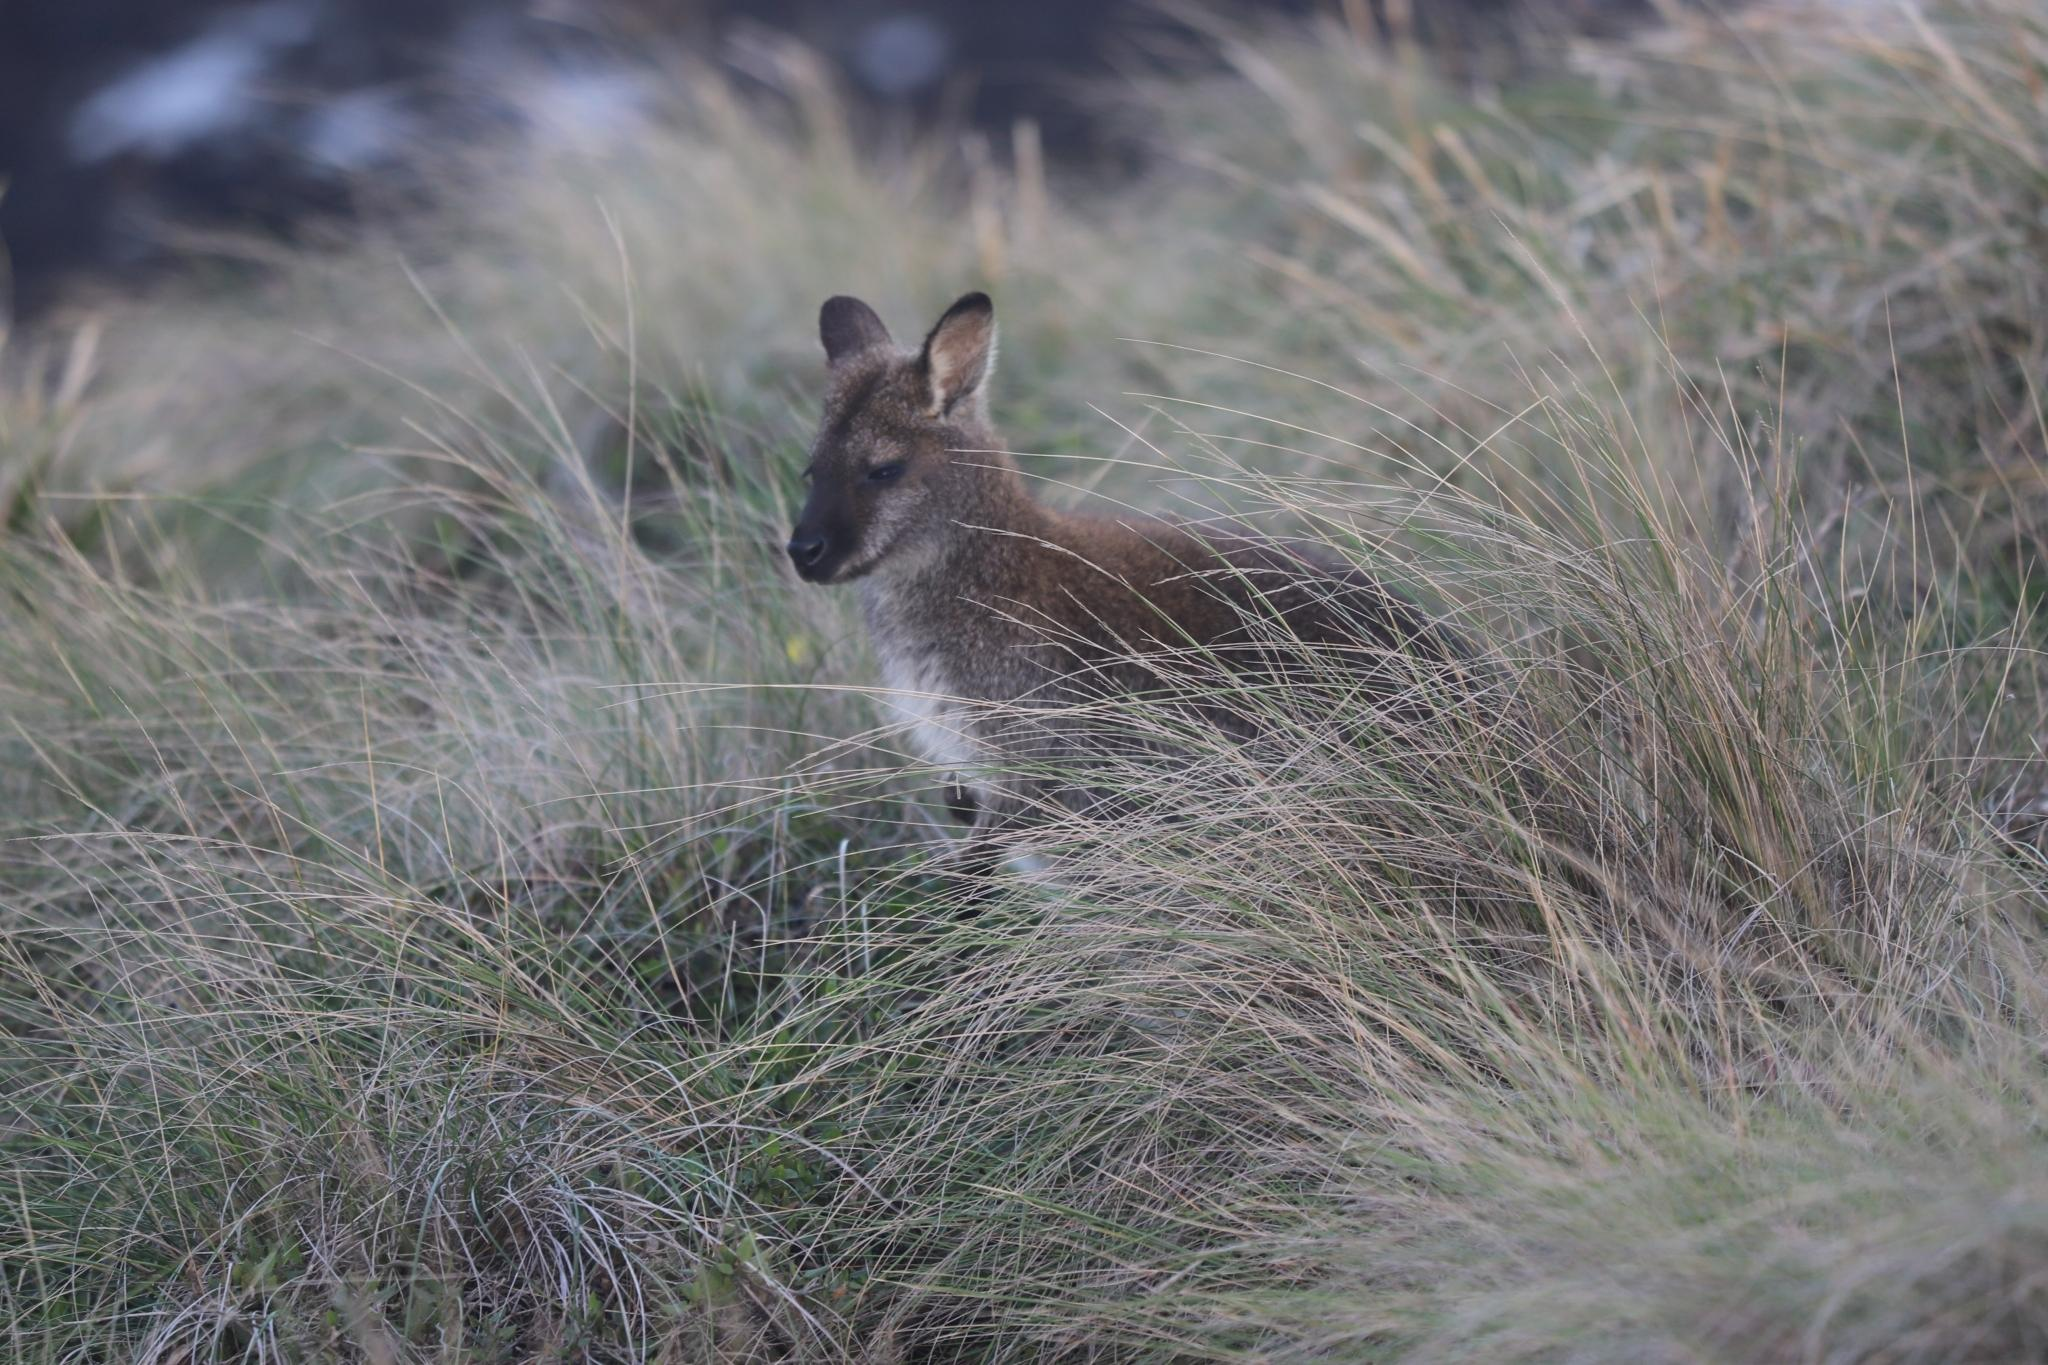Red-necked wallaby: (784, 283, 1556, 920)
